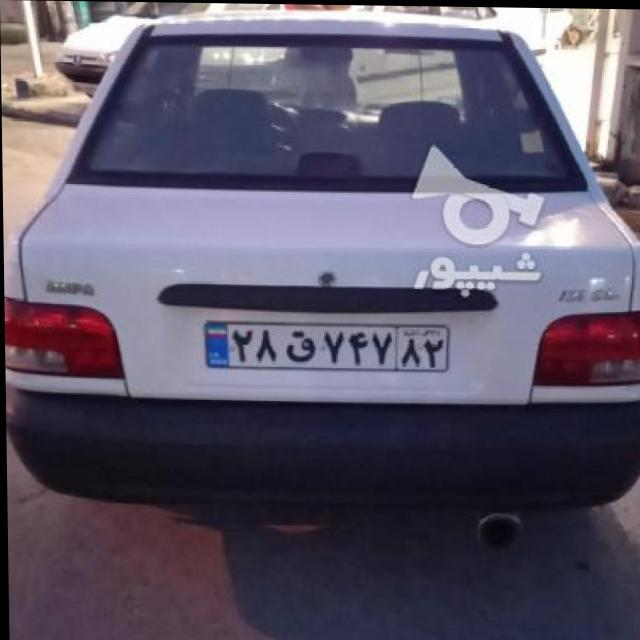licence: (202, 321, 451, 368)
